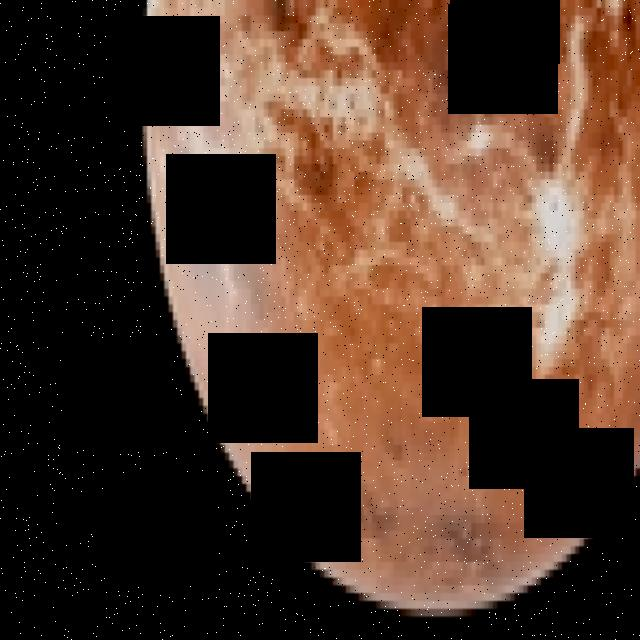Venus: (138, 0, 639, 625)
